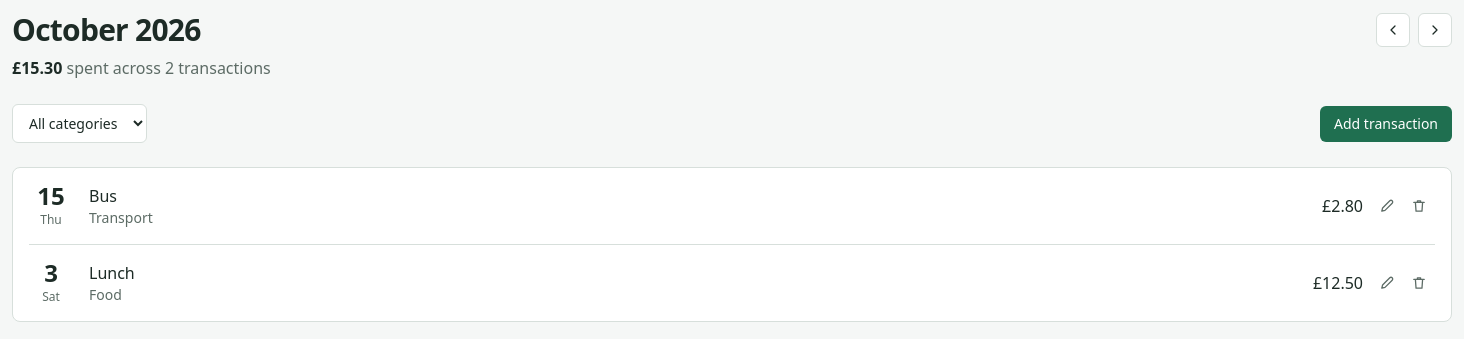
Test case: TransactionsPage › moves to the previous month
Expected: the text "Lunch" is shown, [89,262,135,284]
Click the button named "Previous month".
click(1393, 30)  # box [1376,13,1410,47]
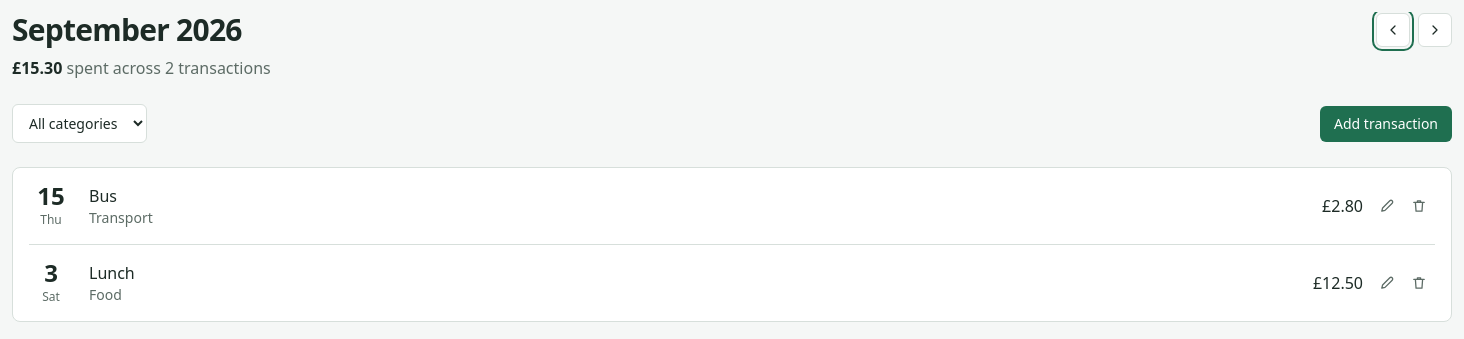
Expected: the heading "September 2026" is shown, [12,12,242,48]
